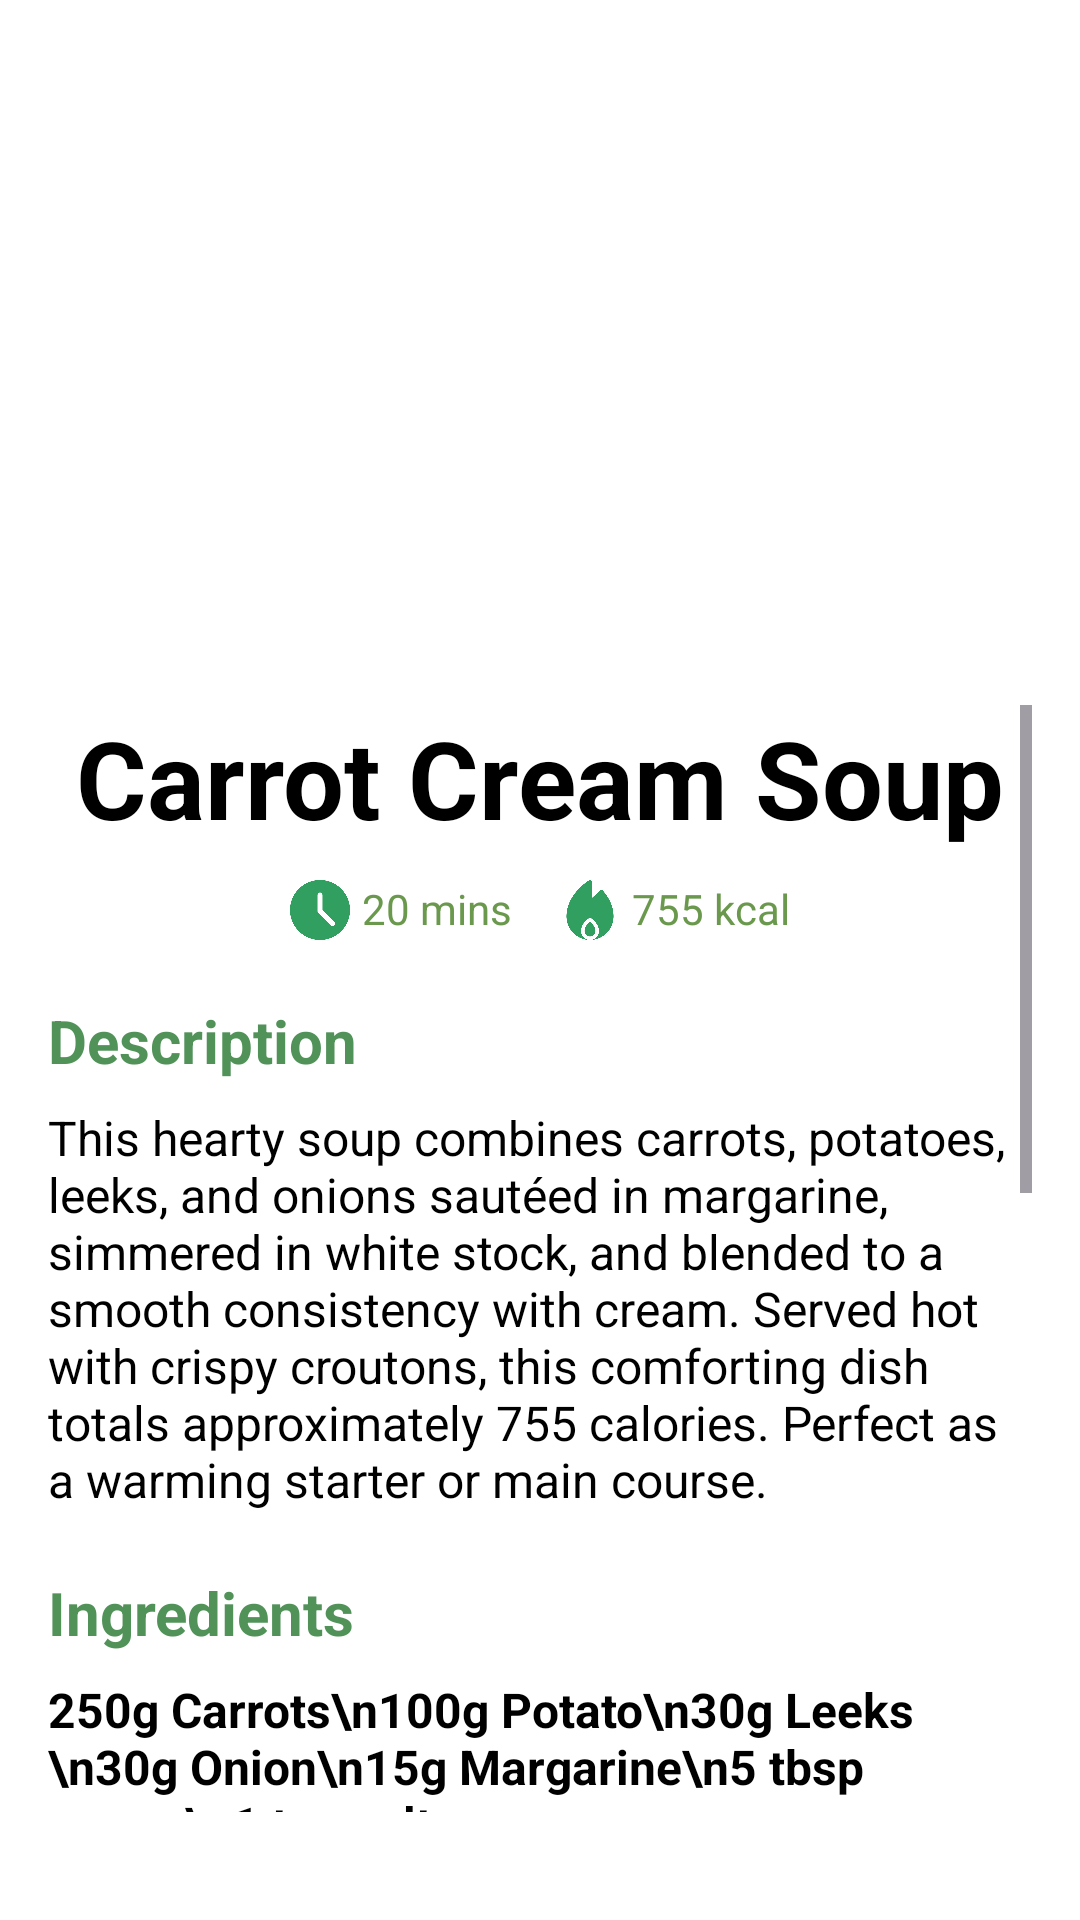

Where icons sit on this 1080 x 1920 app screen, as {"left": x1, "top": y1, "right": x2, "bottom": y2}:
calicon: {"left": 566, "top": 880, "right": 614, "bottom": 940}
timeicon: {"left": 290, "top": 880, "right": 350, "bottom": 940}
